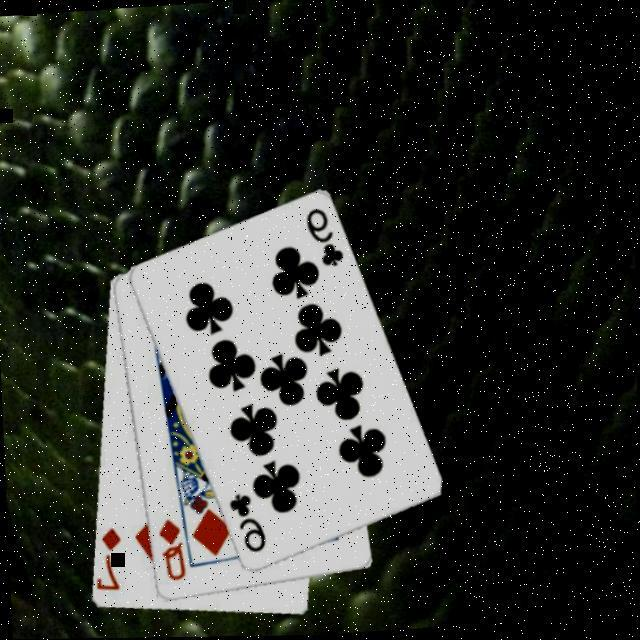7D: (91, 524, 125, 594)
9C: (300, 203, 346, 272), (224, 488, 268, 558)
QD: (152, 515, 188, 585)
